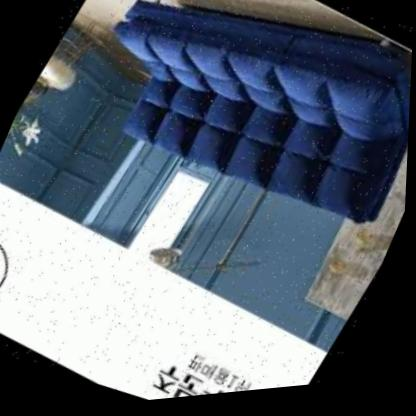Sofa: (6, 0, 416, 318)
